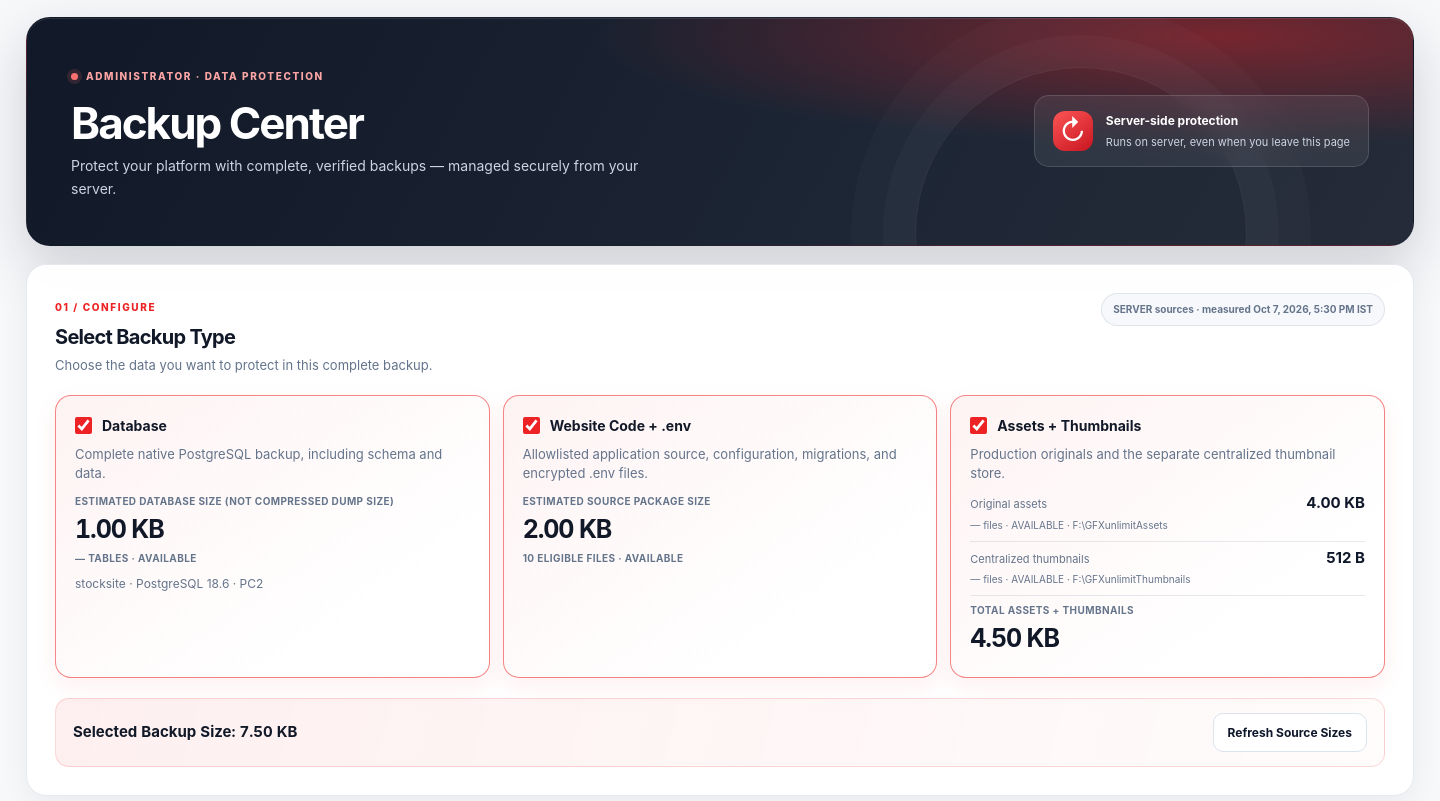
Test: AdminBackupPage › selected source size recalculates and the manual destination uses Browse
Expected: the text "1.00 KB" is shown, [75,514,164,544]
Click the 2nd checkbox.
click(531, 426)  # box [523,417,540,434]
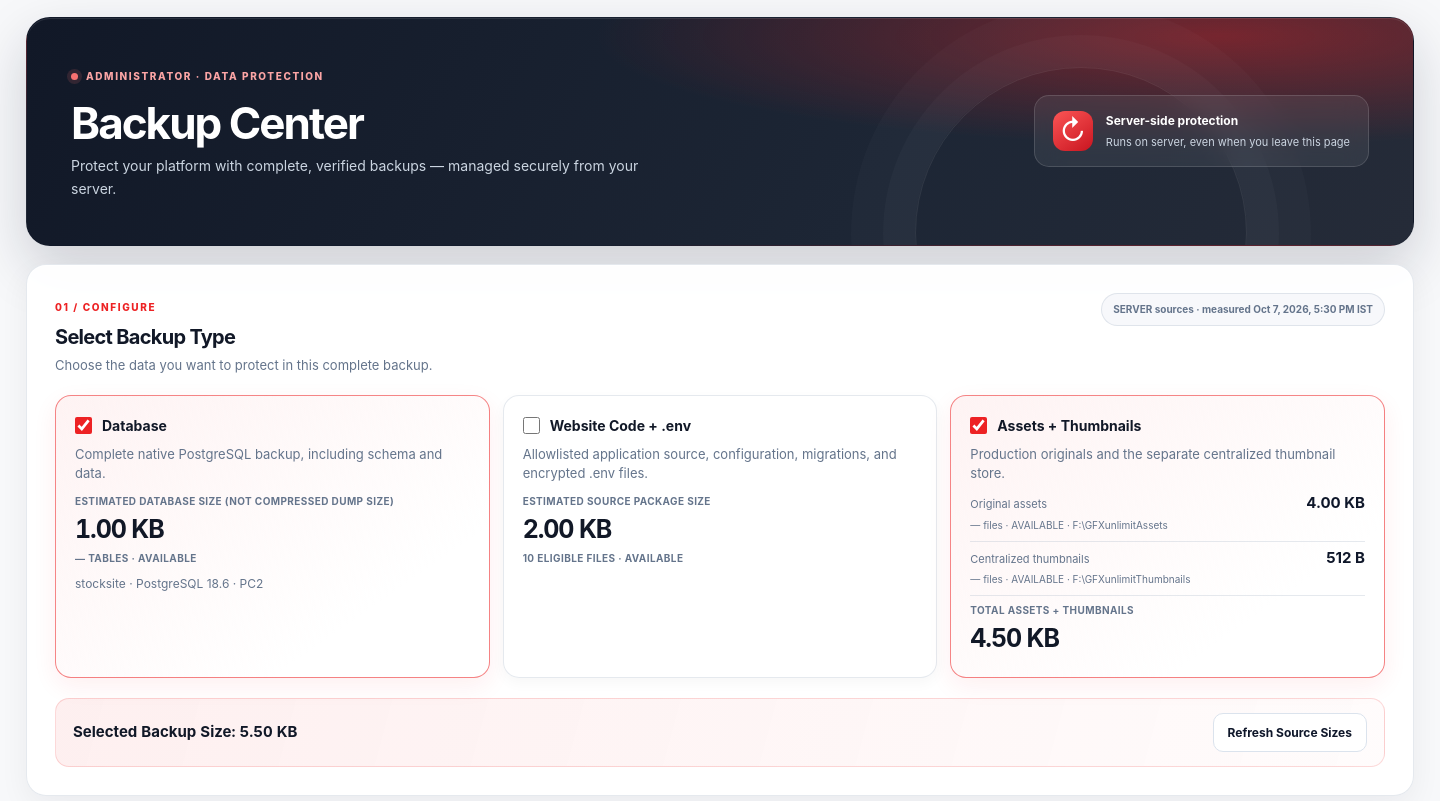
Expected: the text "Selected Backup Size: 5.50 KB" is shown, [73,721,297,743]
Click the 3rd checkbox.
click(979, 426)  # box [970,417,987,434]
(page scrolled)
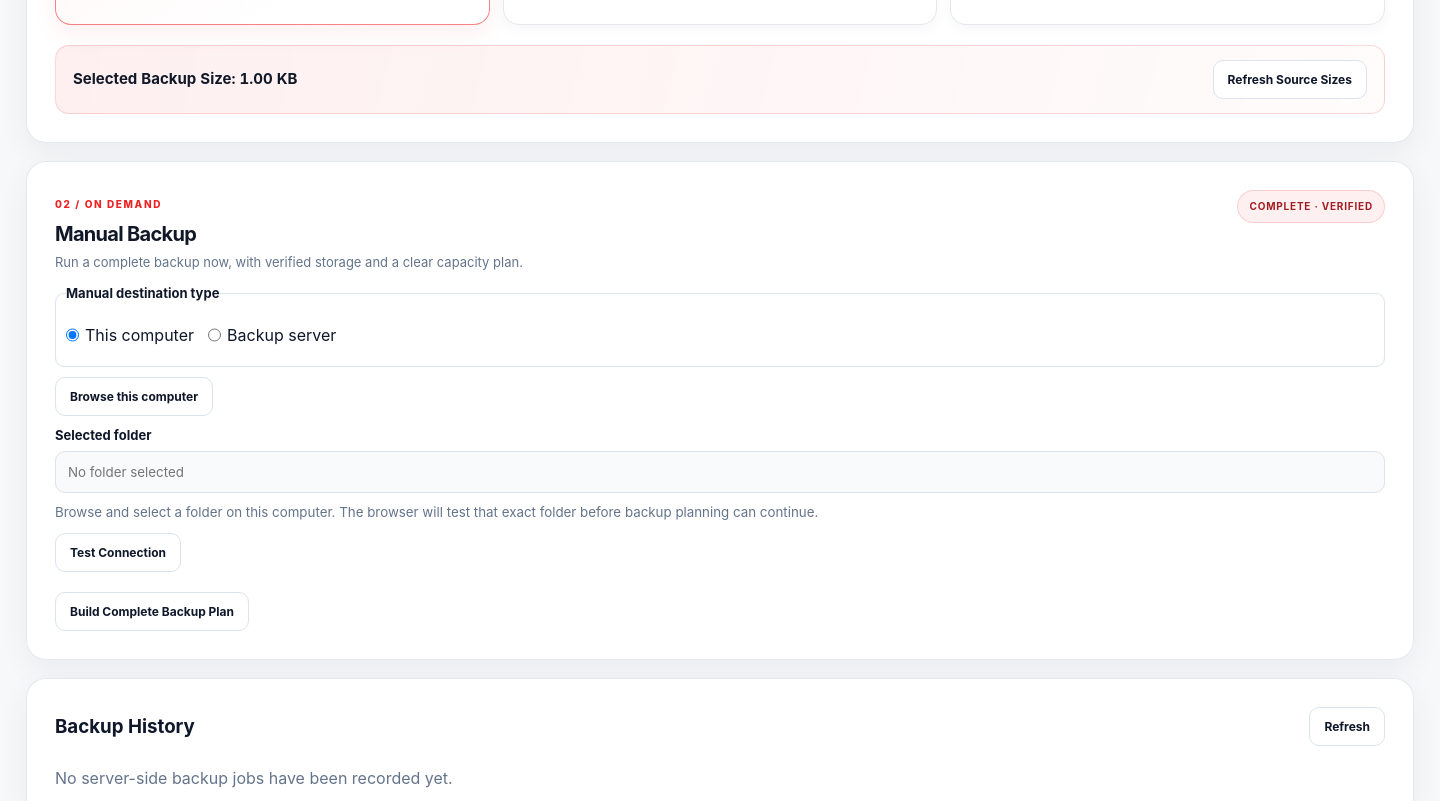
Expected: the text "Selected Backup Size: 1.00 KB" is shown, [73,68,297,90]
Click the button "Browse this computer".
click(134, 396)  # box [55,377,213,416]
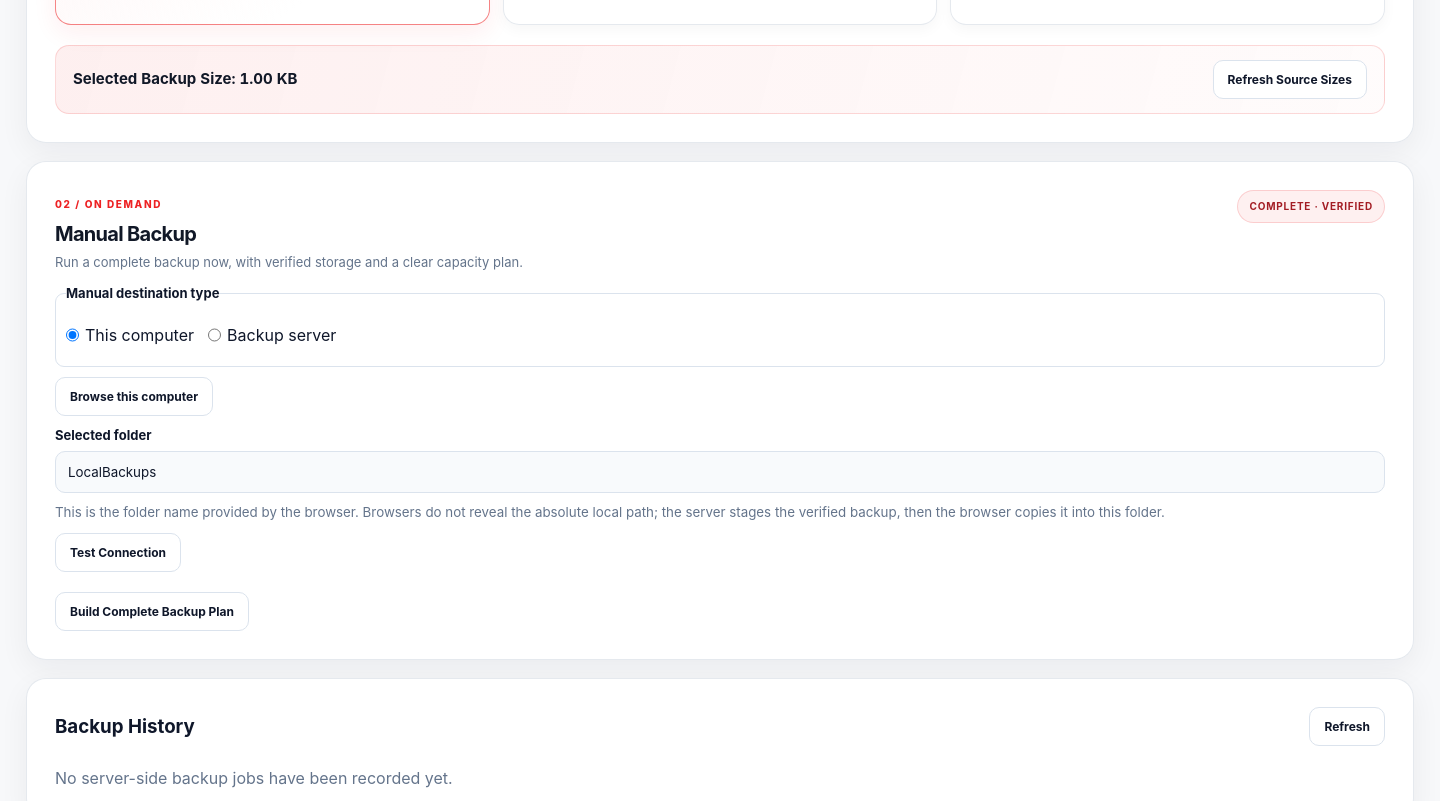
Expected: the text "Manual destination type" is shown, [66,284,219,304]
Expected: the field labelled "Selected folder" holds "LocalBackups", [55,451,1385,493]
